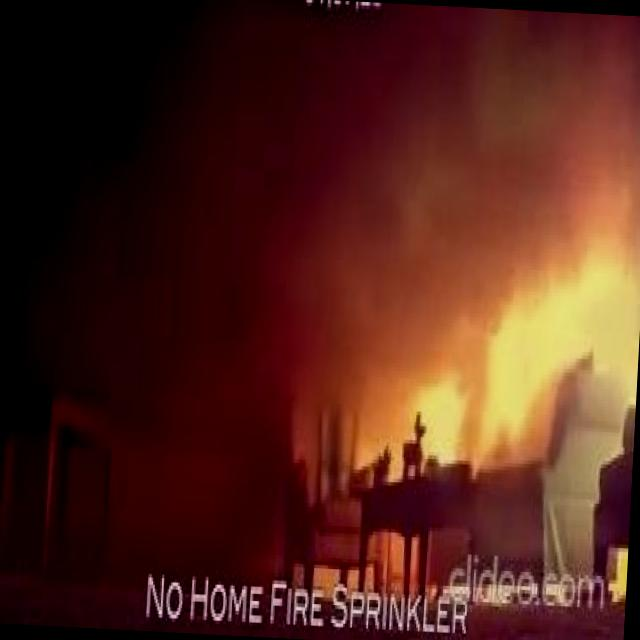fire: (308, 148, 640, 513)
